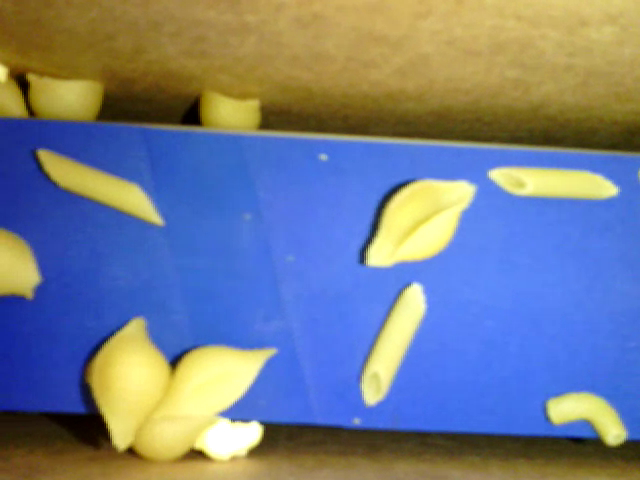elbow: (546, 388, 626, 446)
penne: (36, 144, 162, 224), (360, 280, 428, 408), (485, 165, 620, 199)
shell: (85, 317, 176, 453), (363, 177, 480, 267), (149, 347, 279, 421), (26, 71, 106, 123), (201, 90, 262, 132)
